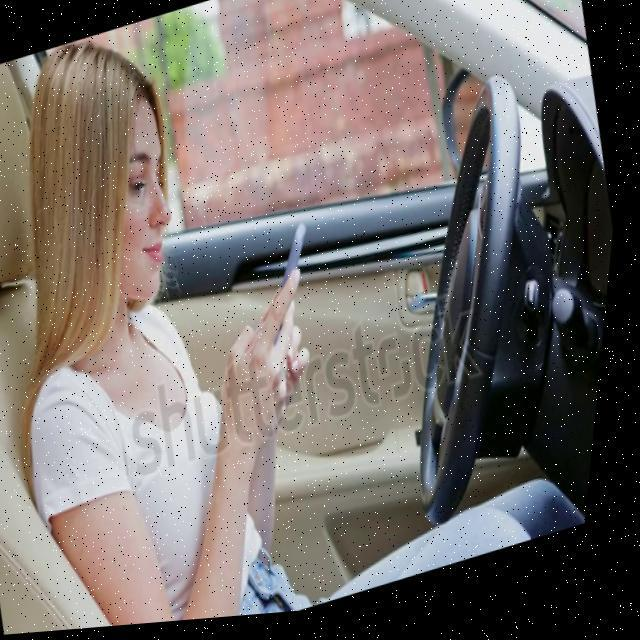PhoneCall: (256, 224, 334, 342)
